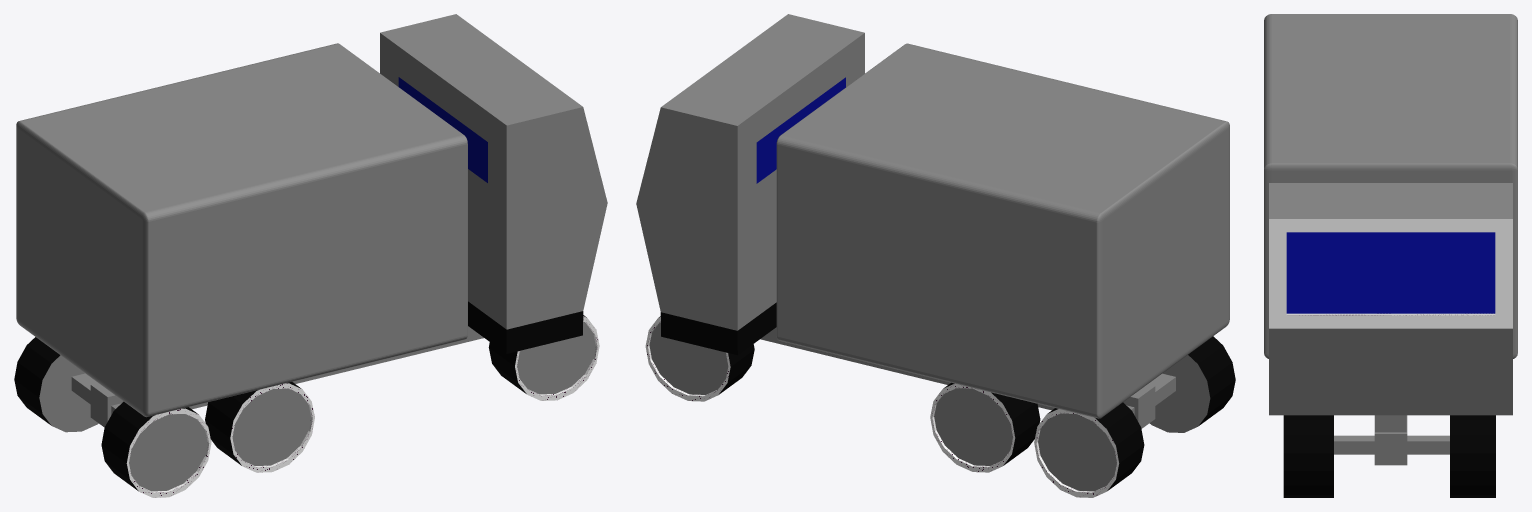
The model's file is Armored Vehicle.fbx.
3 renders of one model, left to right at view 1: azimuth 30°, elevation 25°; view 2: azimuth 150°, elevation 25°; view 3: azimuth 270°, elevation 25°, orthographic. The views are drawn at different scales.
Parts seen in each view (by area): view 1: Cube; view 2: Cube; view 3: Cube.
Part boxes in pixels (x1,y1,x2,y2): Cube: (14, 14, 607, 497); Cube: (636, 14, 1235, 497); Cube: (1264, 14, 1517, 497).
Bounding box in the file's own units: 861 × 510 × 414.
